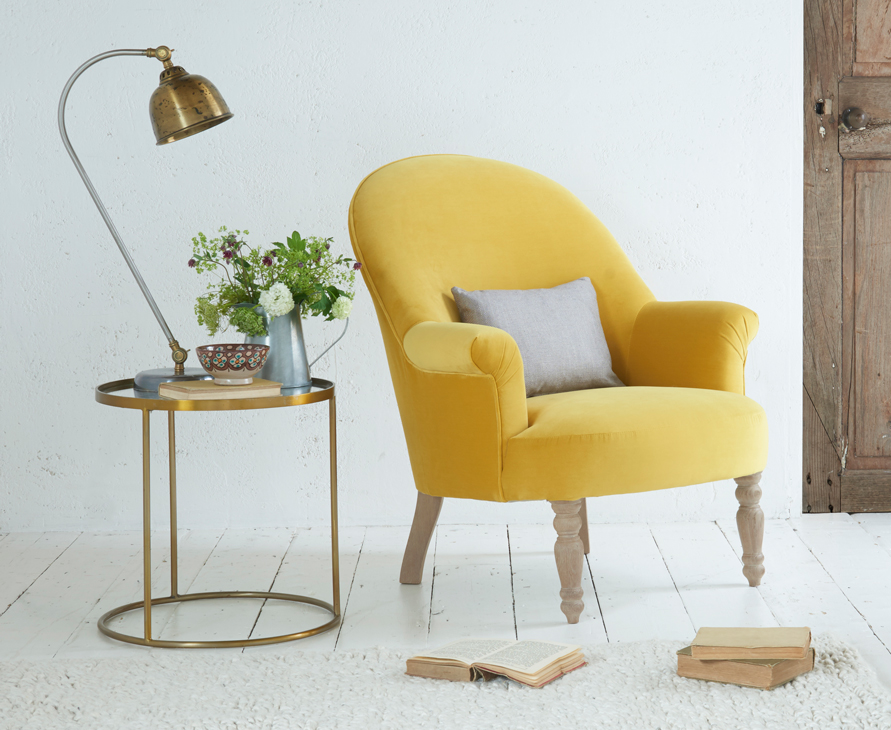chairs: (344, 150, 779, 629)
